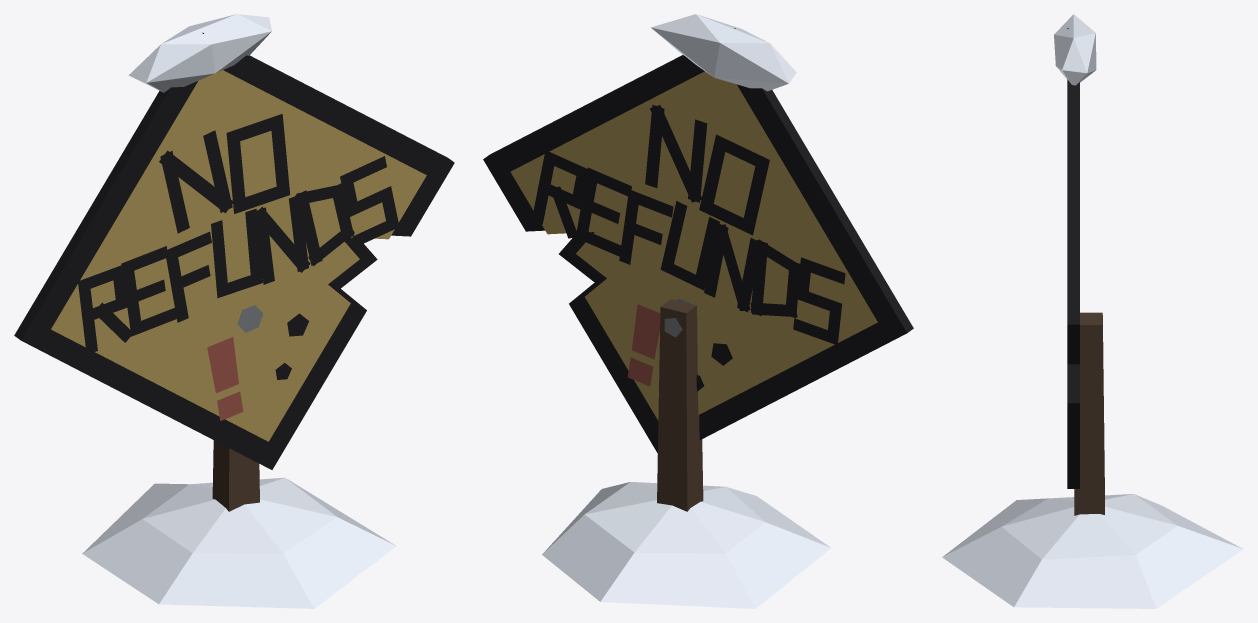
Rendered from gag_sign_a.glb.
3 renders of one model, left to right at view 1: azimuth 30°, elevation 25°; view 2: azimuth 150°, elevation 25°; view 3: azimuth 270°, elevation 25°, orthographic. The views are drawn at different scales.
Visible parts, largest first — view 1: Scenery; view 2: Scenery; view 3: Scenery.
Part boxes in pixels (x1,y1,x2,y2): Scenery: (14,14,454,608); Scenery: (483,14,913,608); Scenery: (942,14,1243,608).
Size of the model in its own units: 2.96 by 3.58 by 1.89.
